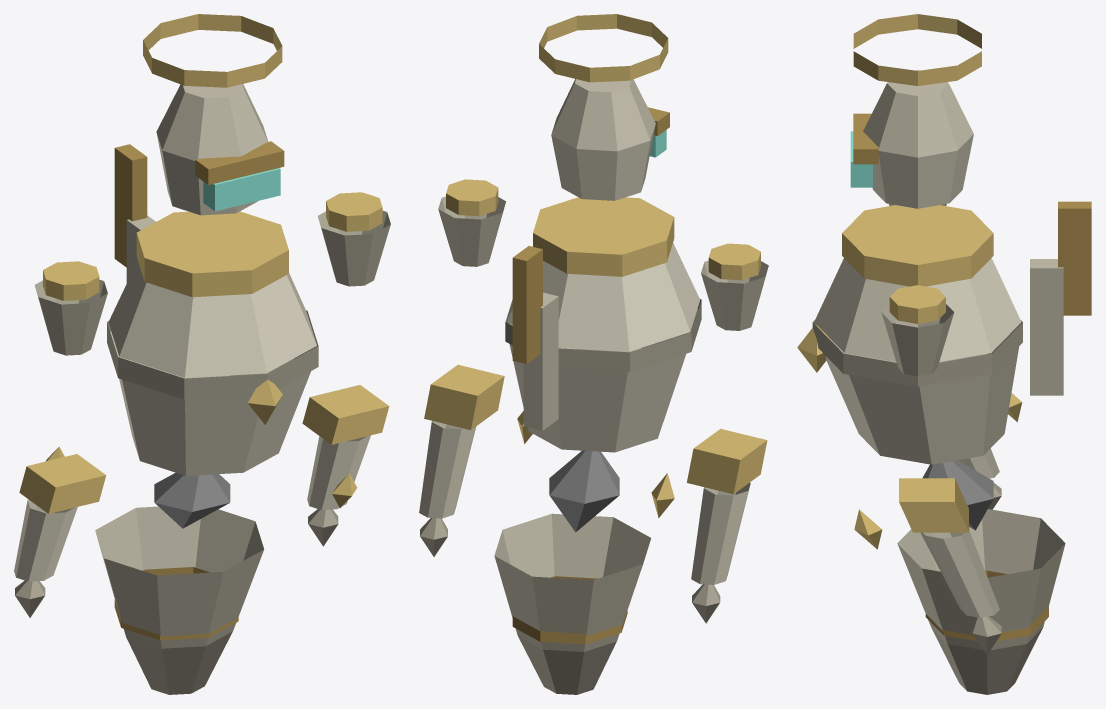
File: acolyte-attack-1.obj
The picture shows the model from 3 angles, left to right: view 1: azimuth 30°, elevation 25°; view 2: azimuth 150°, elevation 25°; view 3: azimuth 270°, elevation 25°; orthographic projection. The views are drawn at different scales.
Parts seen in each view (by area): view 1: acolyte-attack-1; view 2: acolyte-attack-1; view 3: acolyte-attack-1.
Part boxes in pixels (x1,y1,x2,y2): acolyte-attack-1: (14, 14, 390, 694); acolyte-attack-1: (419, 14, 768, 694); acolyte-attack-1: (797, 14, 1091, 694).
Bounding box in the file's own units: 1.38 × 2.52 × 1.05.
